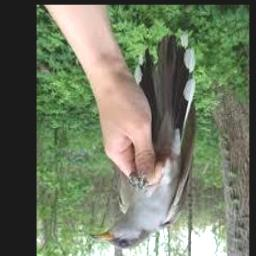Cuckoo: (91, 36, 196, 250)
